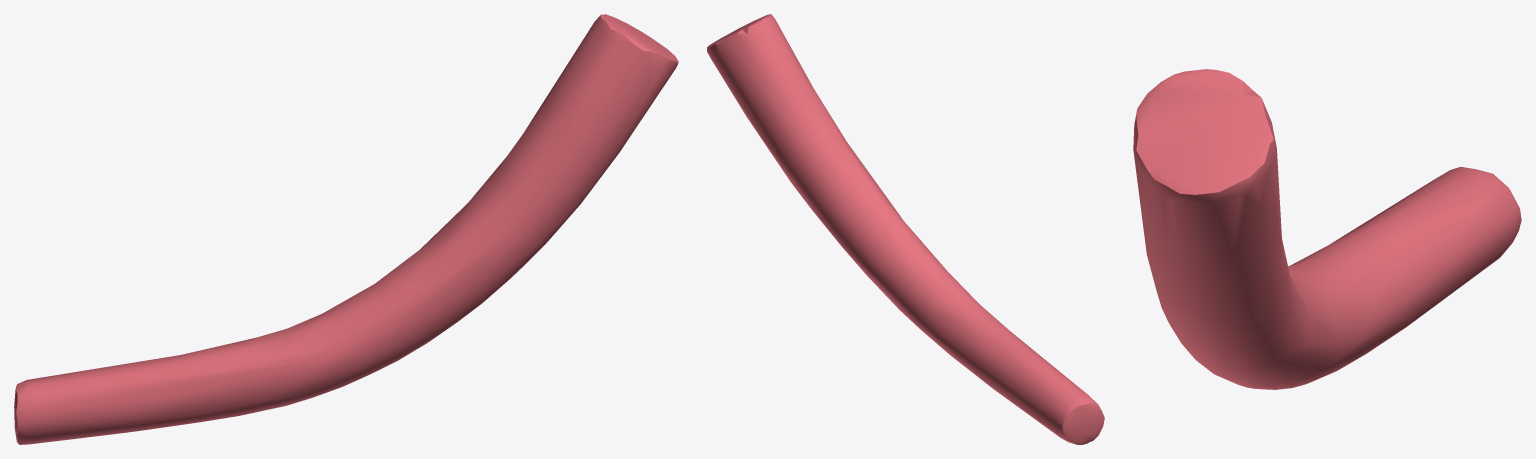
File: fma68706_fj2995.glb
3 renders of one model, left to right at view 1: azimuth 30°, elevation 25°; view 2: azimuth 150°, elevation 25°; view 3: azimuth 270°, elevation 25°, orthographic. The views are drawn at different scales.
Visible parts, largest first — view 1: FMA68706_FJ2995; view 2: FMA68706_FJ2995; view 3: FMA68706_FJ2995.
Part boxes in pixels (x1,y1,x2,y2): FMA68706_FJ2995: (14, 14, 678, 444); FMA68706_FJ2995: (707, 14, 1104, 444); FMA68706_FJ2995: (1133, 69, 1521, 389).
Size of the model in its own units: 0.0185 by 0.0111 by 0.00692.
